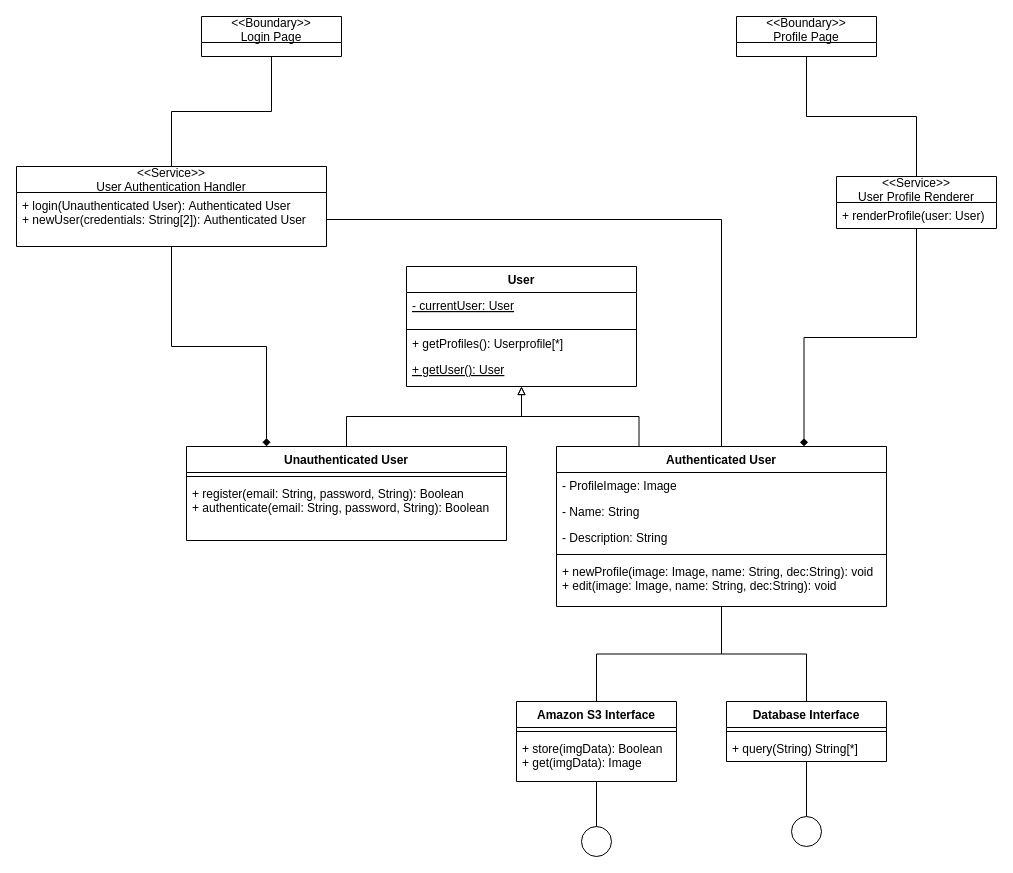
The diagram is 1013 pixels wide and 873 high, and some of its shapes have lost their labels. Here are the shapes that lost their labels. From the top down, the centre of each, then its label:
At (x=596, y=841): "S3".
At (x=806, y=831): "Database".
